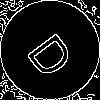D: (25, 25, 83, 82)
